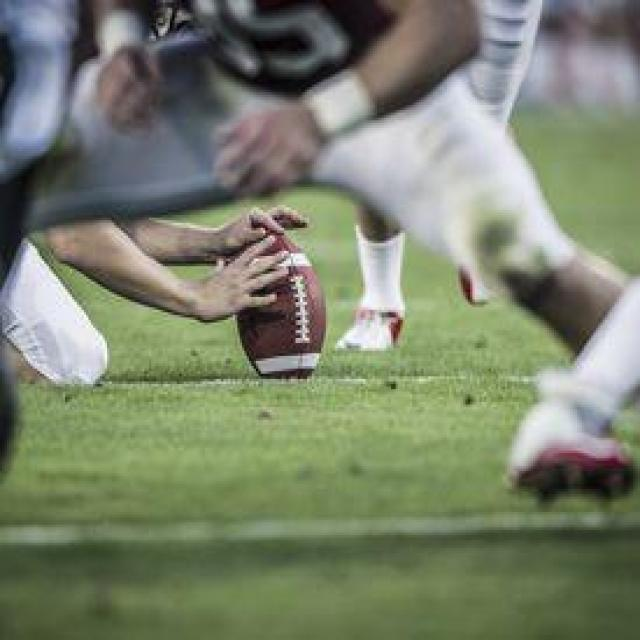ball: (202, 206, 362, 393)
